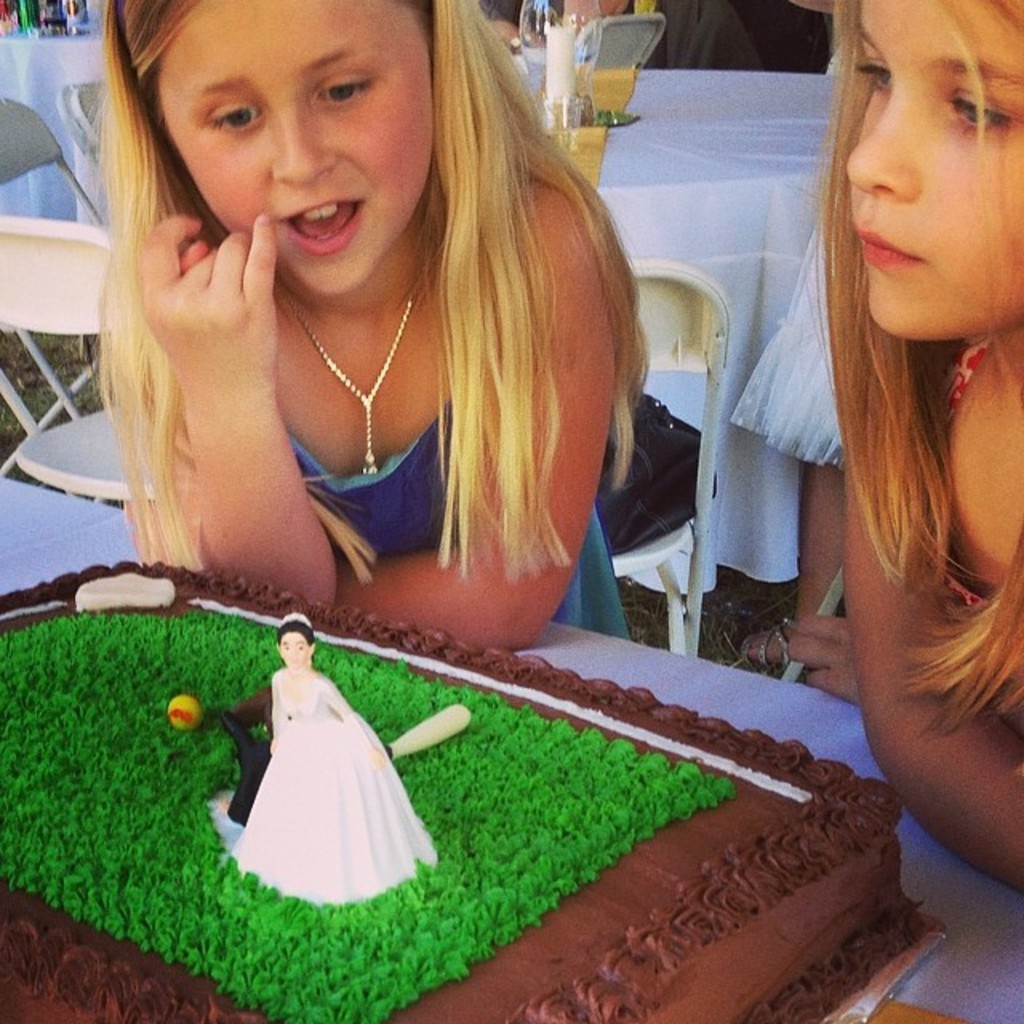cake: (0, 560, 926, 1022)
